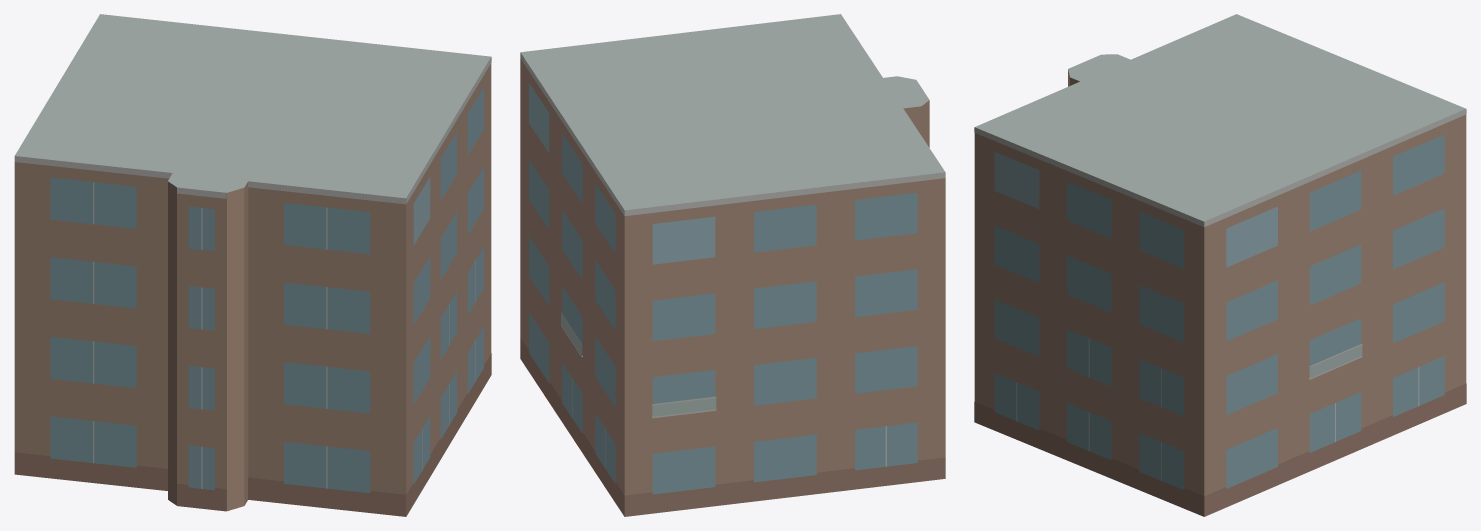
Rendered from survey-upis-32615136.glb.
The picture shows the model from 3 angles, left to right: view 1: azimuth 30°, elevation 25°; view 2: azimuth 150°, elevation 25°; view 3: azimuth 270°, elevation 25°; orthographic projection. The views are drawn at different scales.
Visible parts, largest first — view 1: survey-upis-32615136.tmp; view 2: survey-upis-32615136.tmp; view 3: survey-upis-32615136.tmp.
Boxes of the visible parts, x1,y1,x2,y2 form: survey-upis-32615136.tmp: [14, 14, 491, 516]; survey-upis-32615136.tmp: [520, 14, 945, 516]; survey-upis-32615136.tmp: [974, 14, 1466, 516].
Size of the model in its own units: 19.48 by 12.9 by 19.49.
